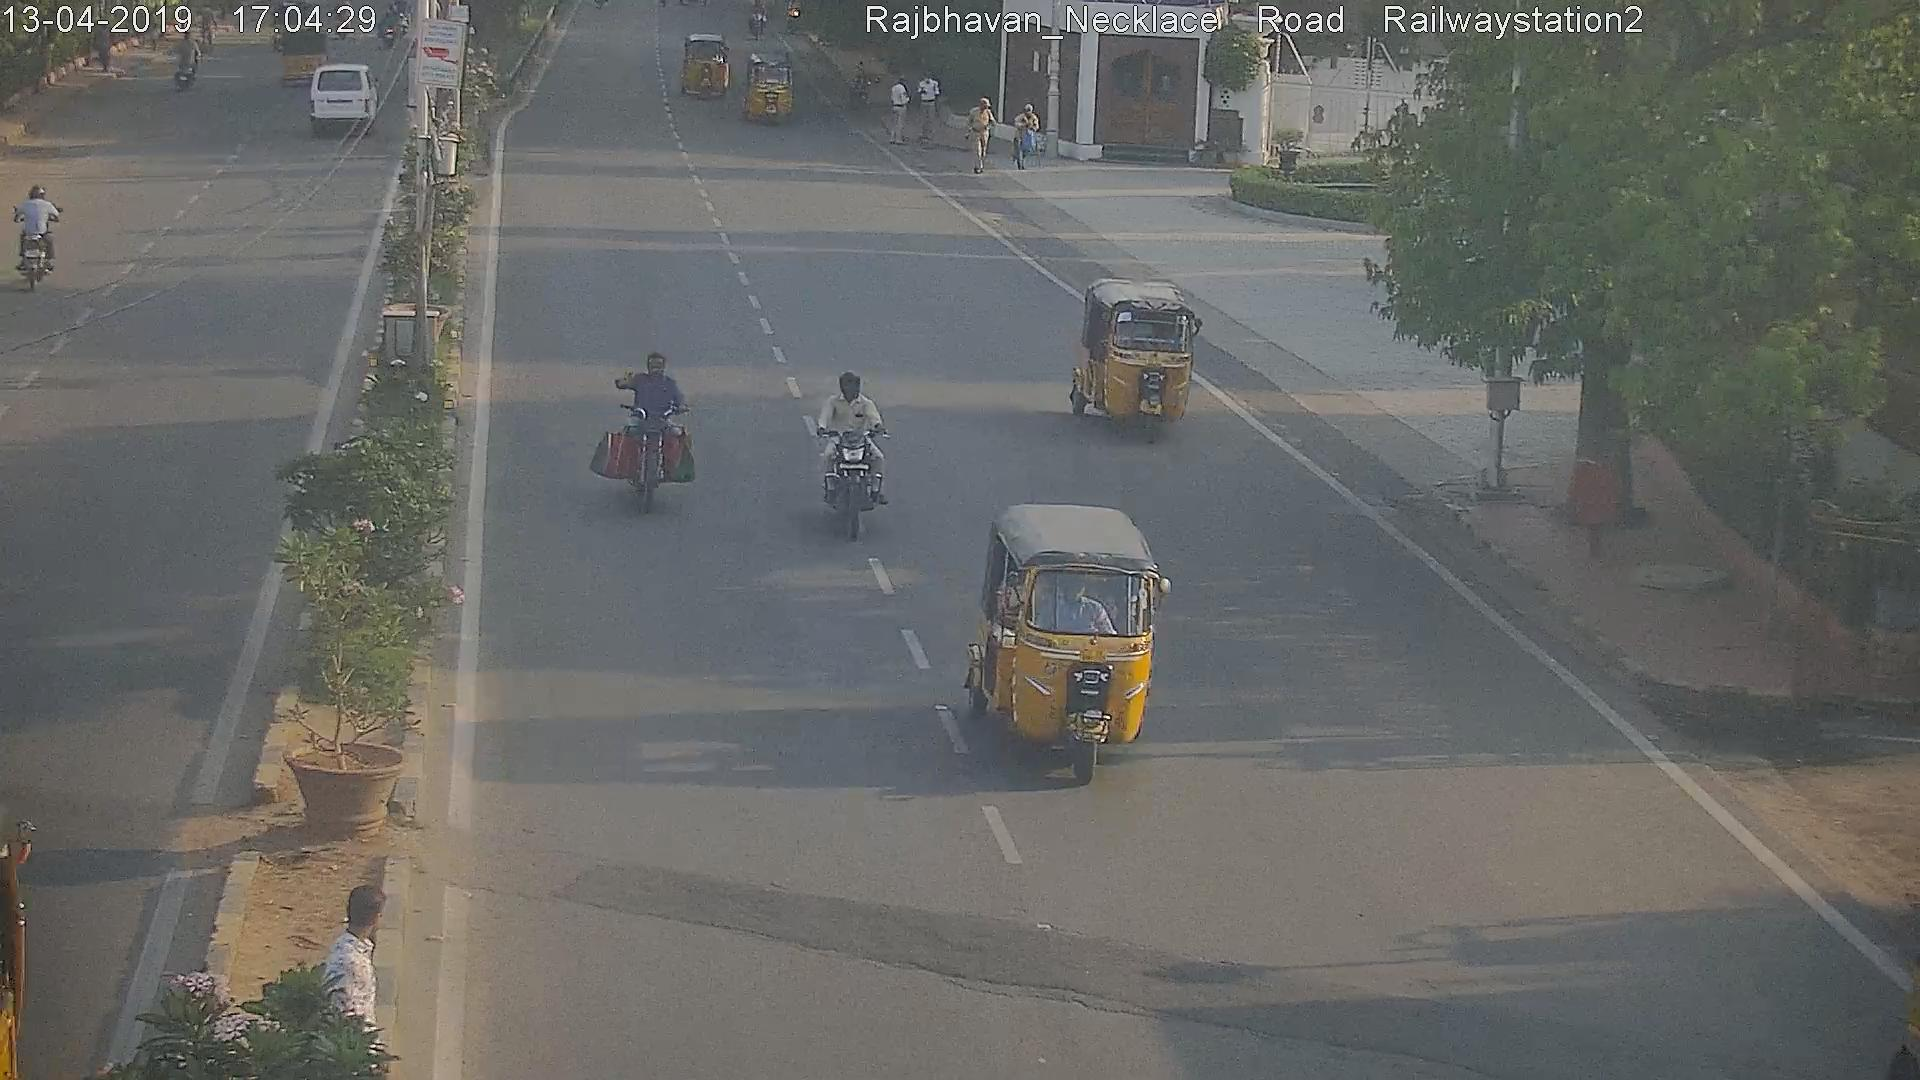2Wheeler: (822, 369, 887, 545), (618, 353, 676, 500), (17, 178, 55, 285)
